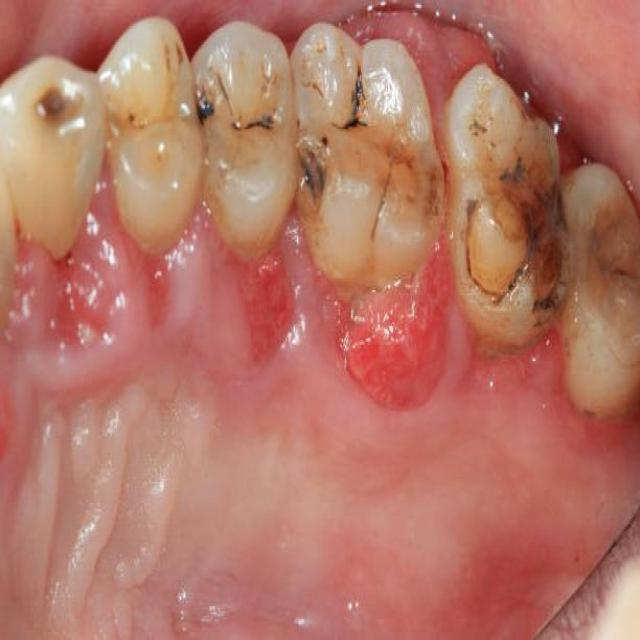caries: (454, 109, 566, 321), (568, 187, 640, 364), (359, 139, 440, 246), (27, 68, 89, 154), (290, 117, 342, 216), (329, 52, 378, 142), (232, 85, 286, 156), (190, 62, 230, 147), (153, 33, 197, 110), (118, 83, 160, 153)
